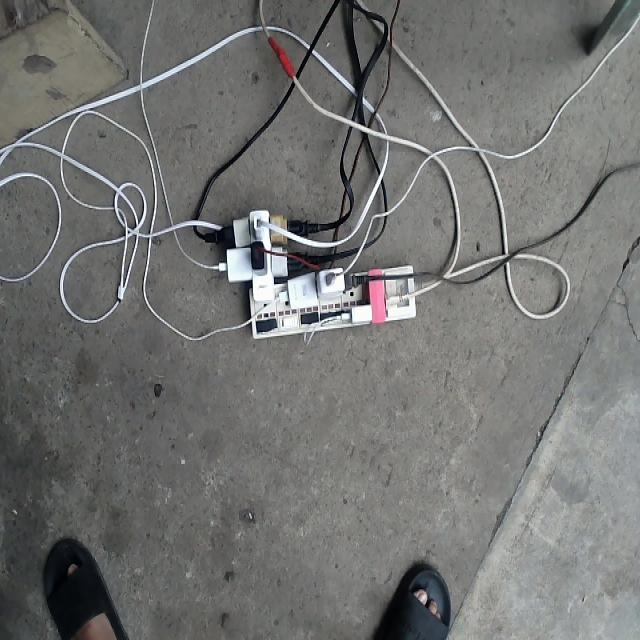-: (201, 206, 415, 334)
